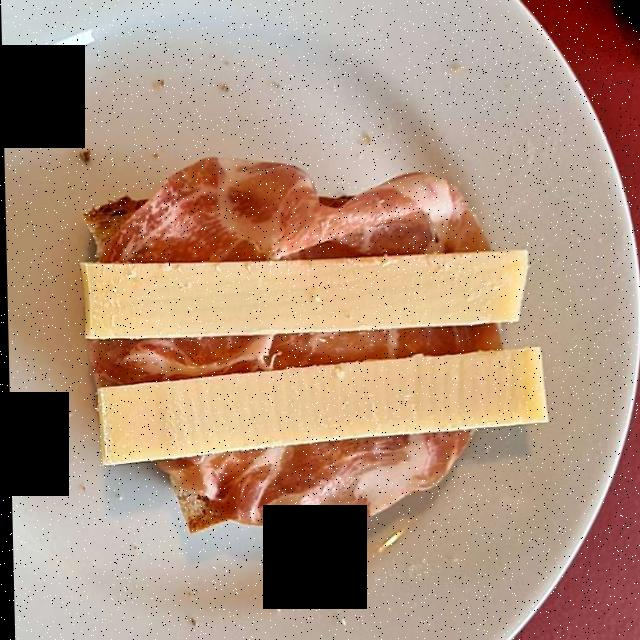gruyere: (74, 247, 543, 460)
